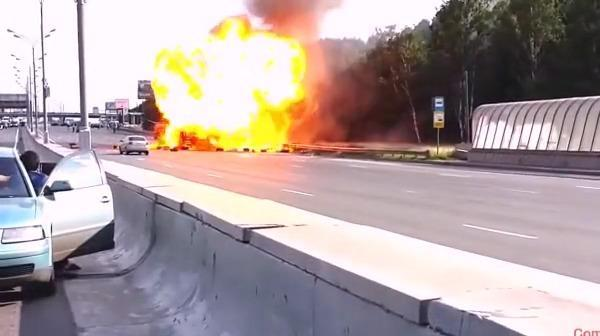fire: (149, 7, 313, 156)
